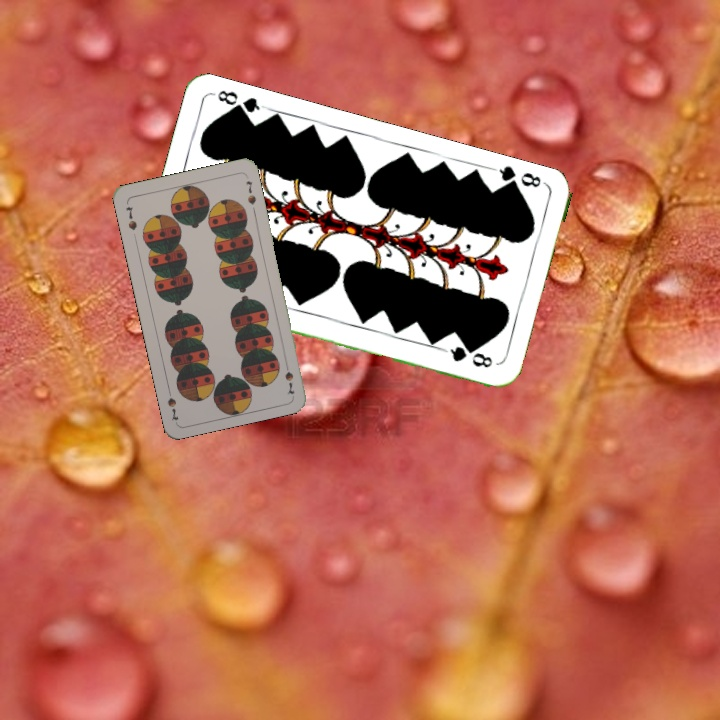G8: (490, 162, 548, 195)
S7: (281, 357, 297, 397), (122, 202, 140, 233)
